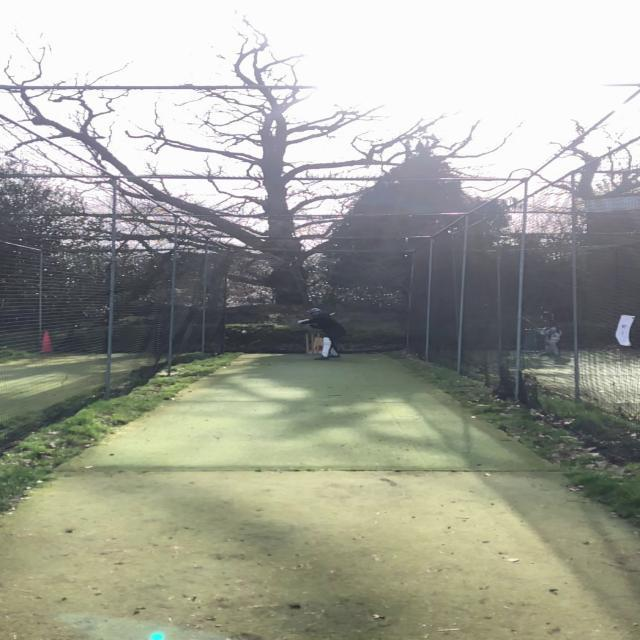ball: (242, 330, 248, 334)
